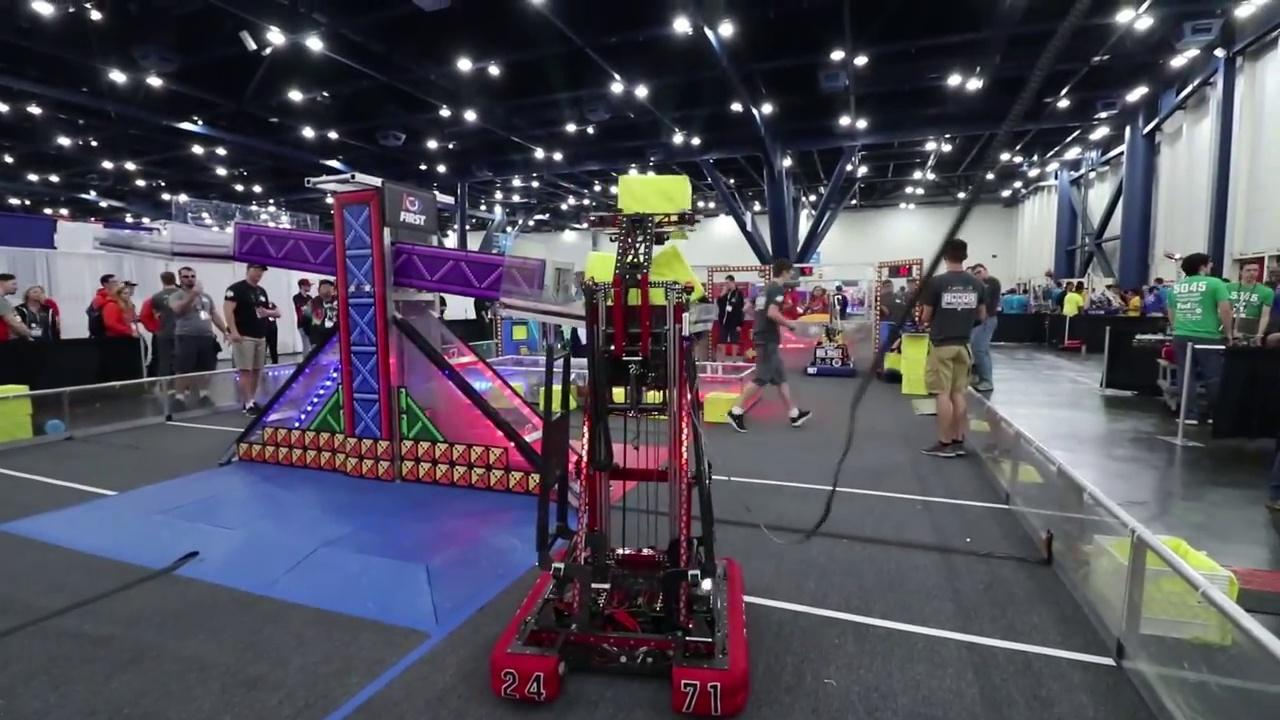robot: (489, 196, 759, 720), (801, 326, 858, 379)
